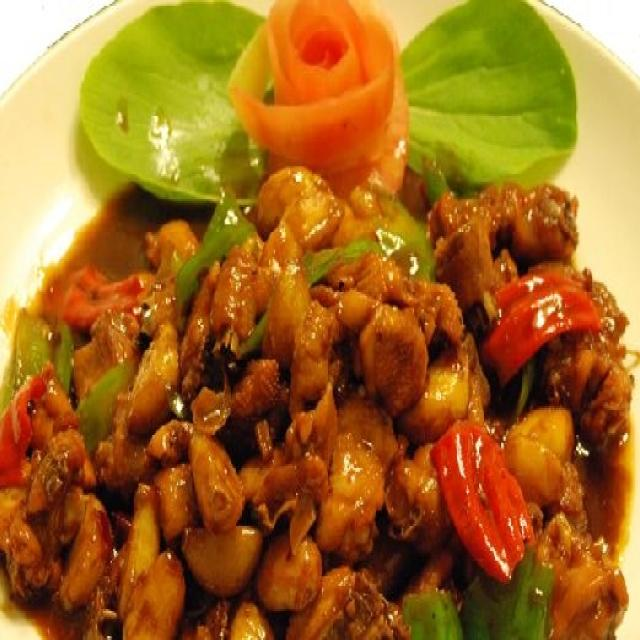鸡肉料理 含炸鸡: (21, 16, 621, 634)
